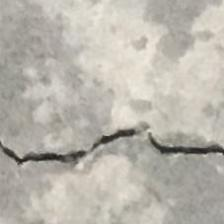Crack: (0, 112, 224, 200)
